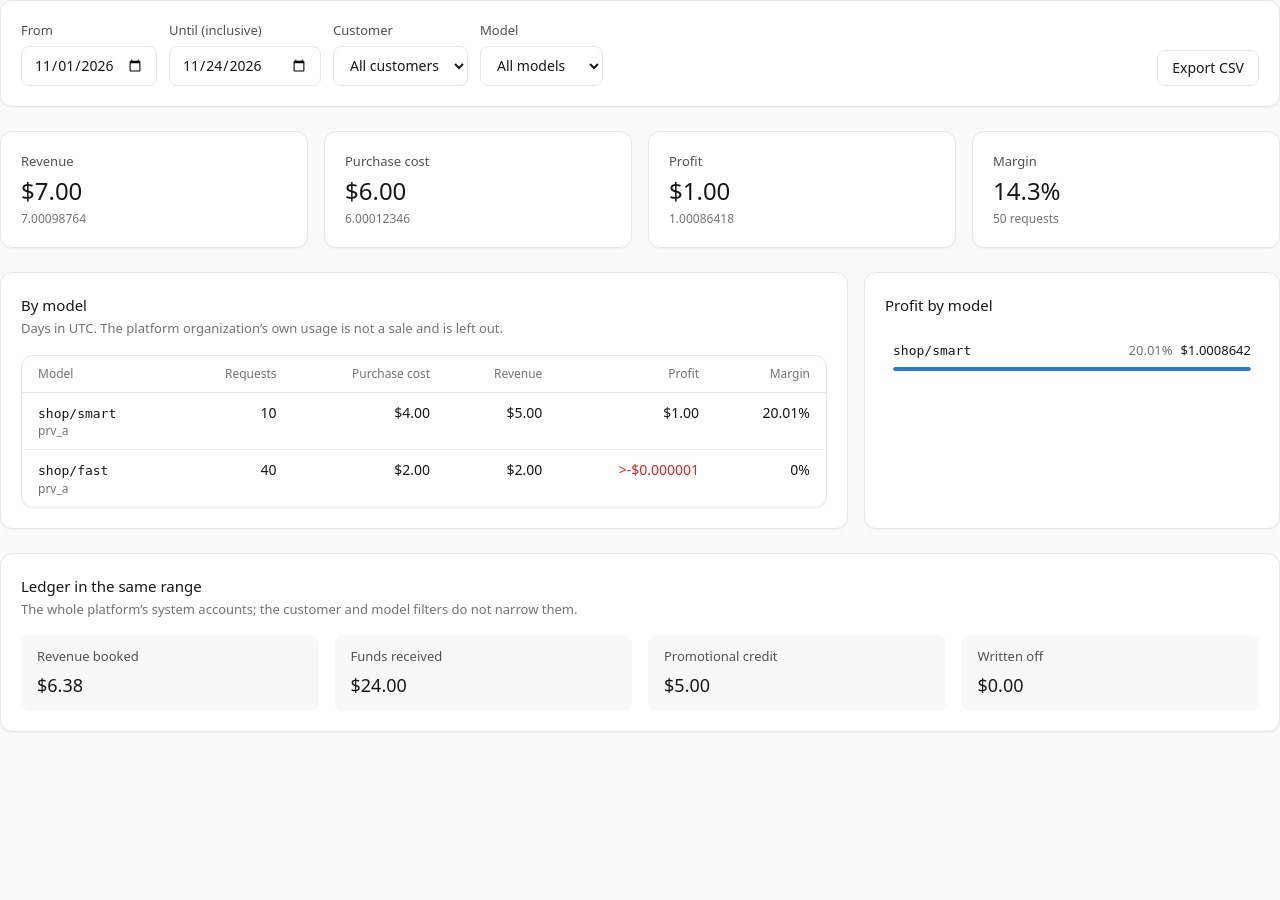
it: billing profit report (card 25.2) › sends the range, customer and model filters to the endpoint
Expected: the element with test id "profit-totals" is shown, [0,131,1279,248]
Step 1. Type "2026-10-01" into the date field labelled "From" → [89, 66], box [21,46,157,86]
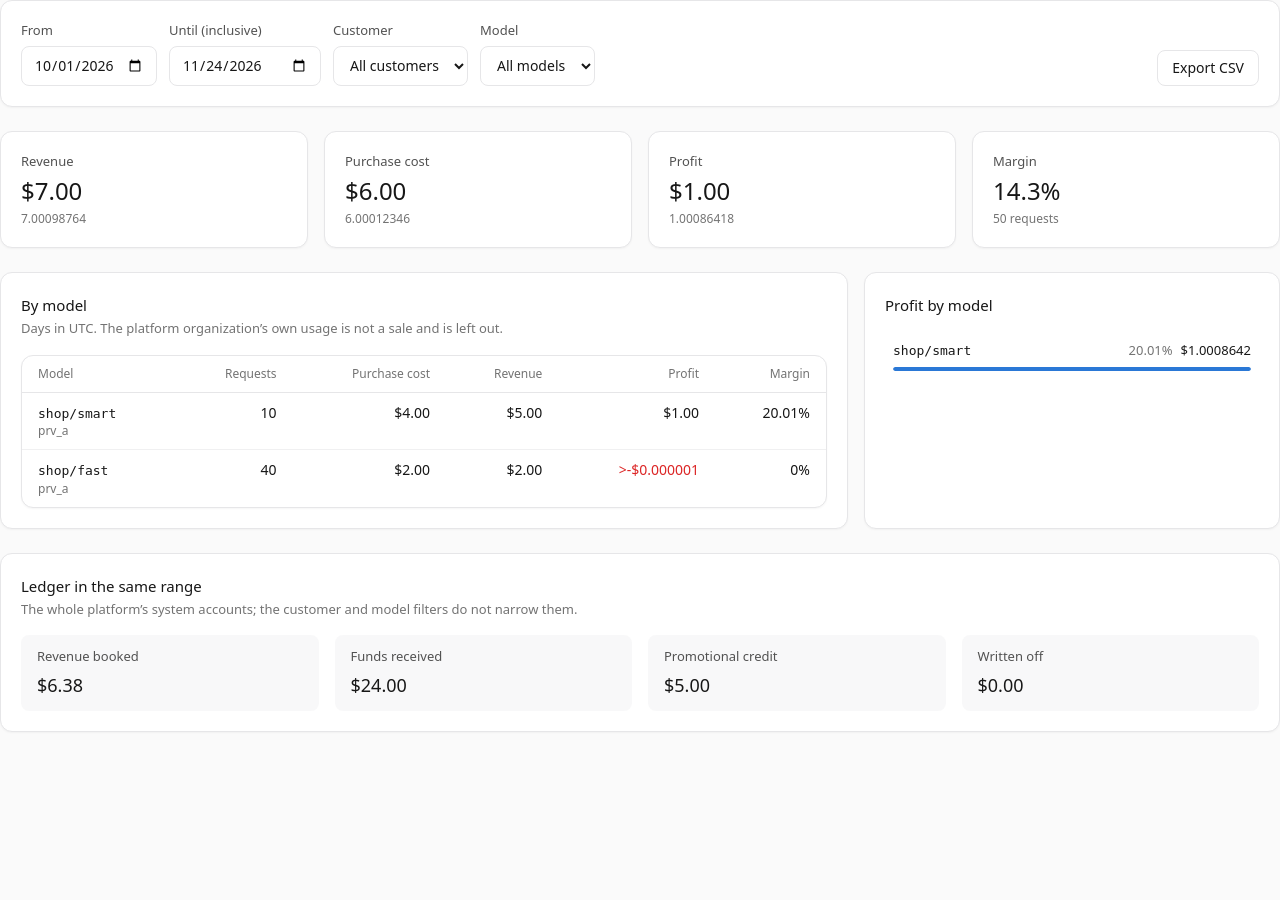
Step 2. Type "2026-10-31" into the date field labelled "Until (inclusive)" → [245, 66], box [169,46,321,86]
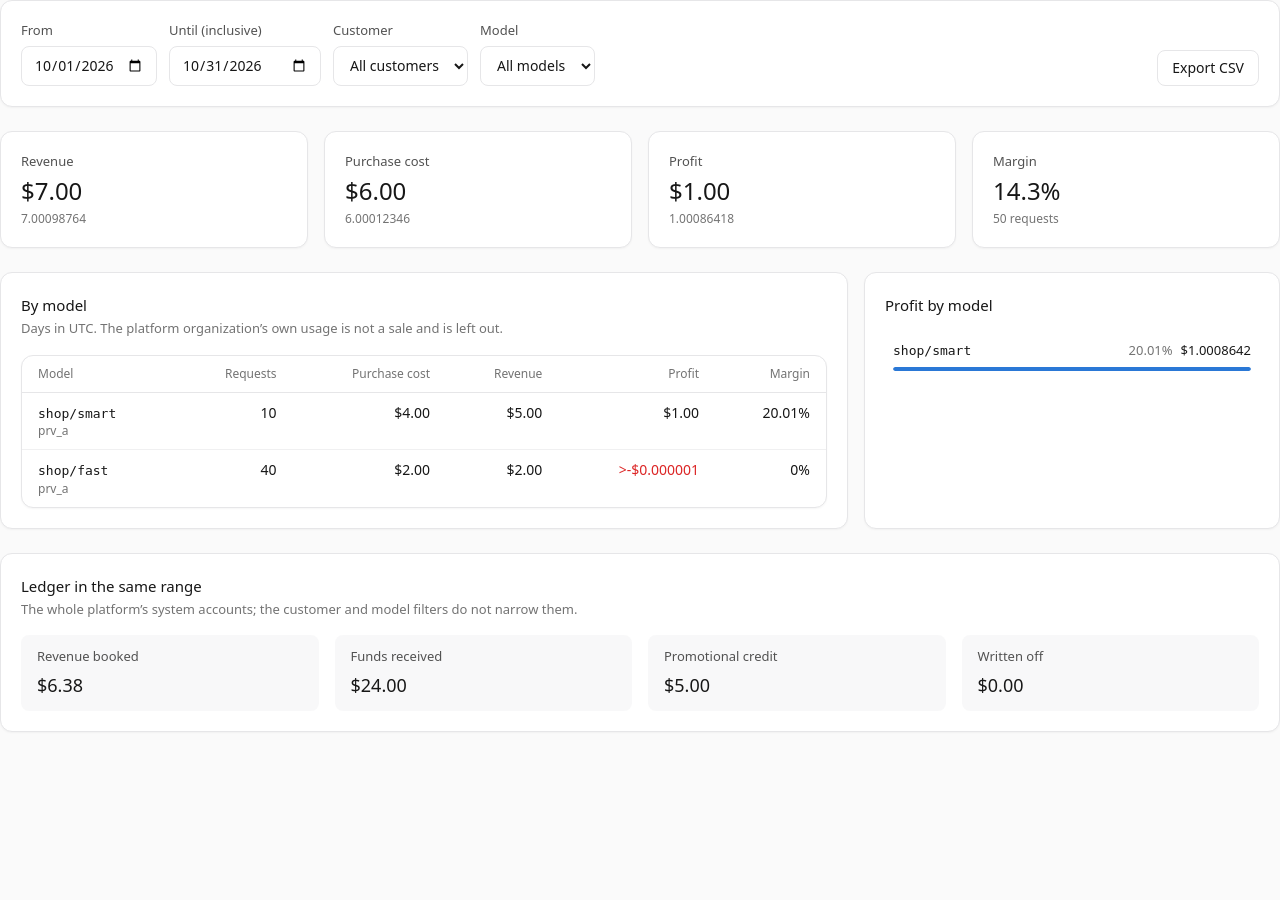
Step 3. Select "Acme" in the dropdown labelled "Customer" → [400, 66], box [333,46,468,86]
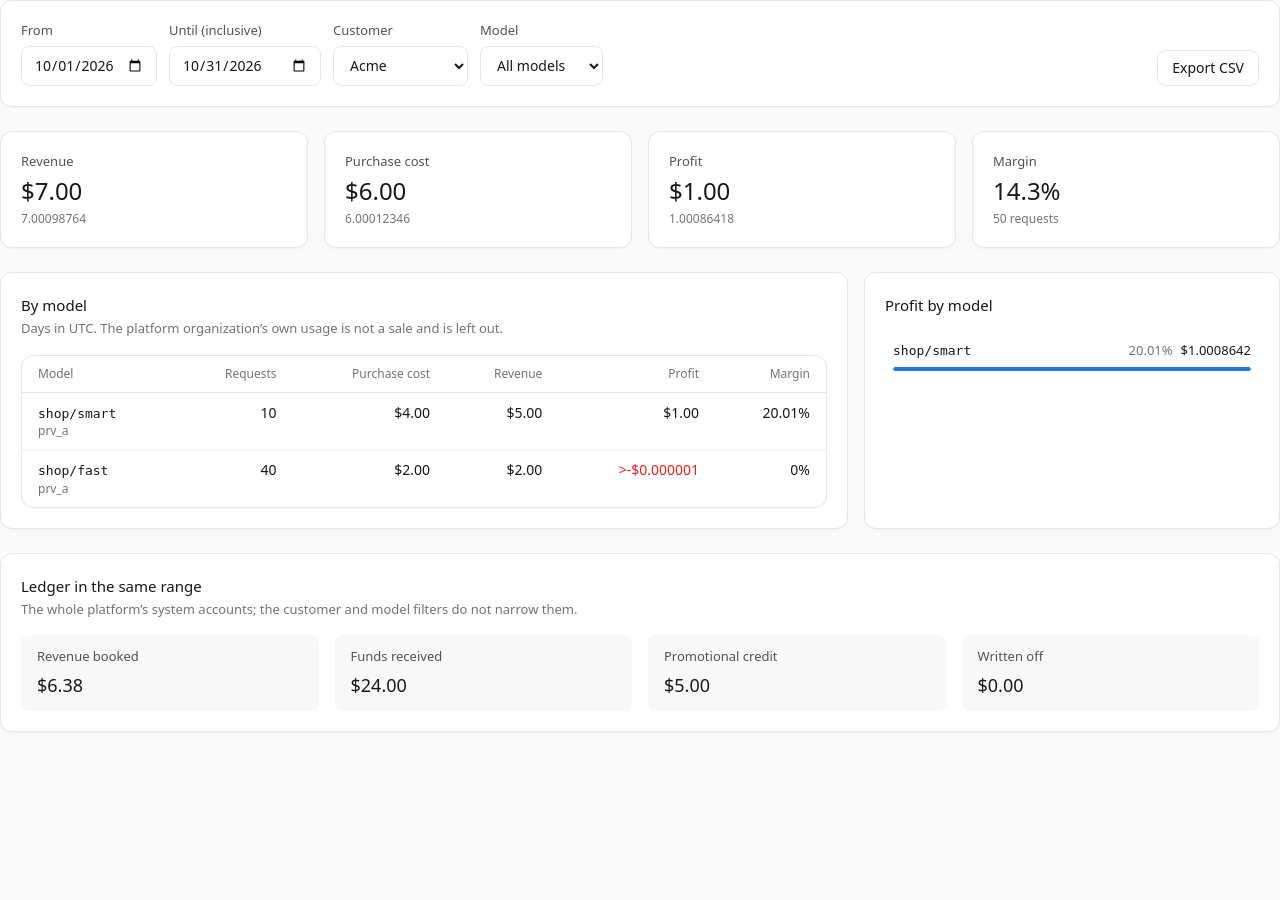
Step 4. Select "shop/fast" in the dropdown labelled "Model" → [542, 66], box [480,46,603,86]
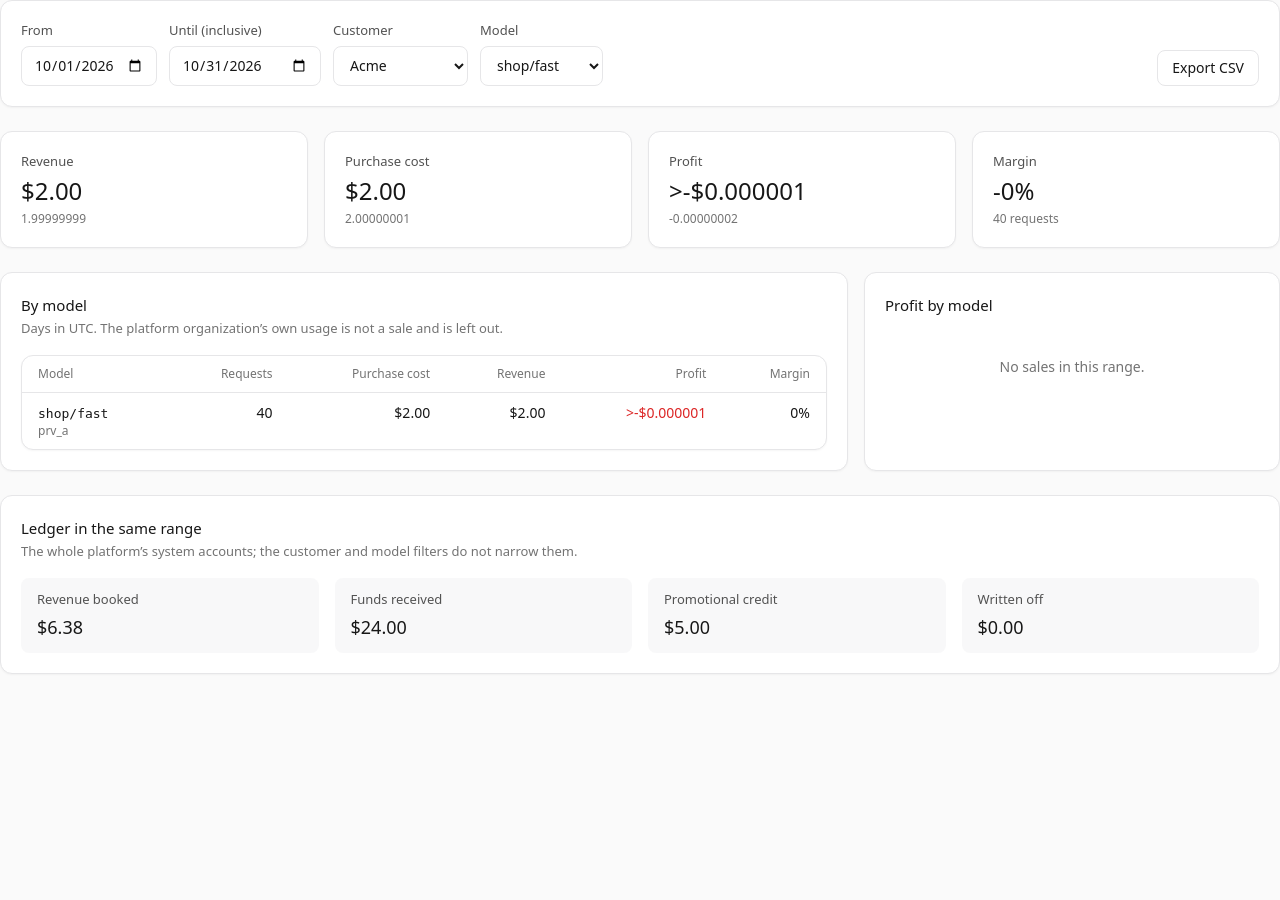
Expected: the number of rows with test id "profit-row" is 1, [22,393,826,449]
